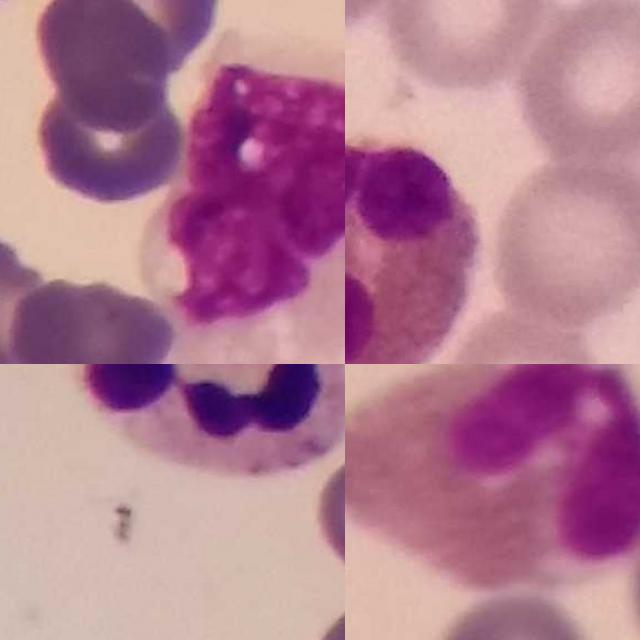Eosinophil: (345, 364, 640, 592), (345, 138, 484, 364)
Monocyte: (150, 51, 345, 364)
Neutrophil: (70, 364, 345, 477)
